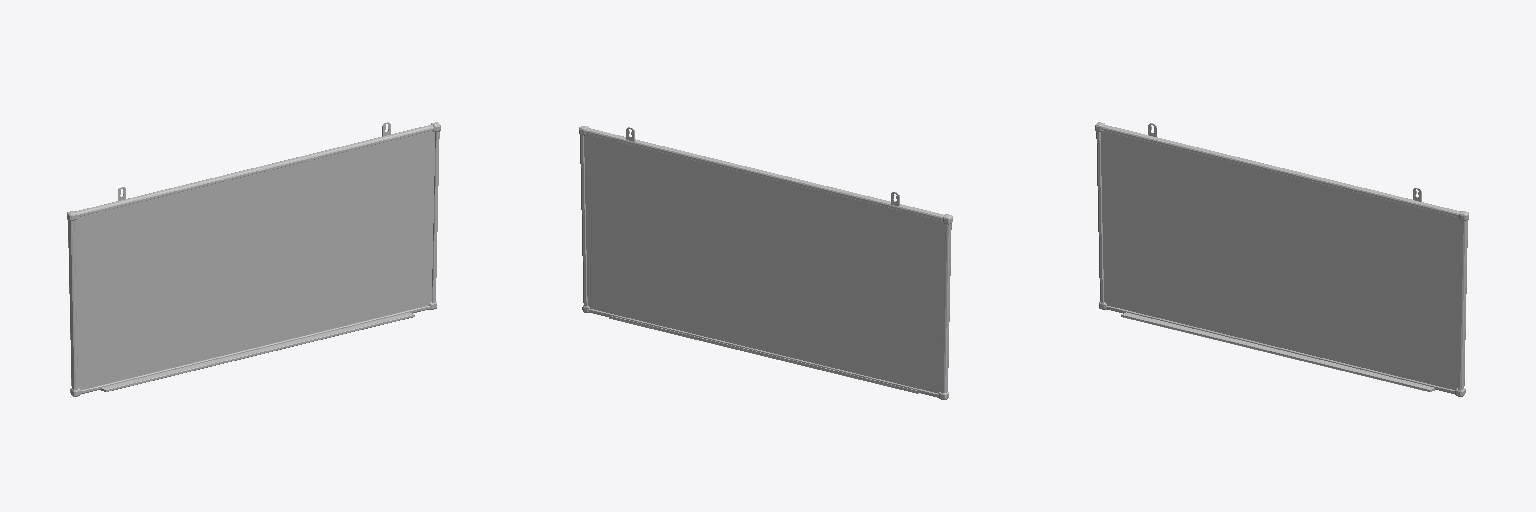
The model's file is Quadro.obj.
3 views of the same model, side by side, from view 1: azimuth 30°, elevation 25°; view 2: azimuth 150°, elevation 25°; view 3: azimuth 330°, elevation 25° (orthographic).
Visible parts, largest first — view 1: White_board_White_board_0; view 2: White_board_White_board_0; view 3: White_board_White_board_0.
Boxes of the visible parts, <box> form: White_board_White_board_0: <box>67,122,440,396</box>; White_board_White_board_0: <box>579,126,952,399</box>; White_board_White_board_0: <box>1095,122,1468,396</box>.
Bounding box in the file's own units: 1.36 × 0.6827 × 0.055.